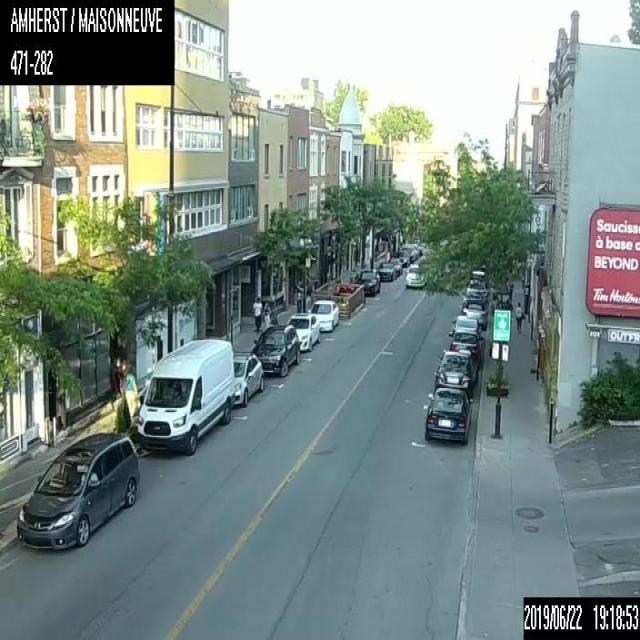pedestrian: (124, 366, 137, 421), (252, 294, 261, 334), (262, 301, 272, 328), (514, 299, 522, 332)
vehicle: (16, 432, 139, 549), (137, 339, 234, 453), (424, 386, 472, 444), (251, 324, 299, 376), (434, 349, 478, 399), (232, 351, 264, 405), (448, 328, 483, 366), (286, 312, 319, 351), (307, 299, 338, 331), (451, 314, 482, 338), (356, 268, 380, 296), (463, 303, 487, 329), (405, 262, 426, 288), (461, 291, 485, 309), (376, 262, 396, 280), (387, 257, 402, 276), (396, 249, 409, 266)
